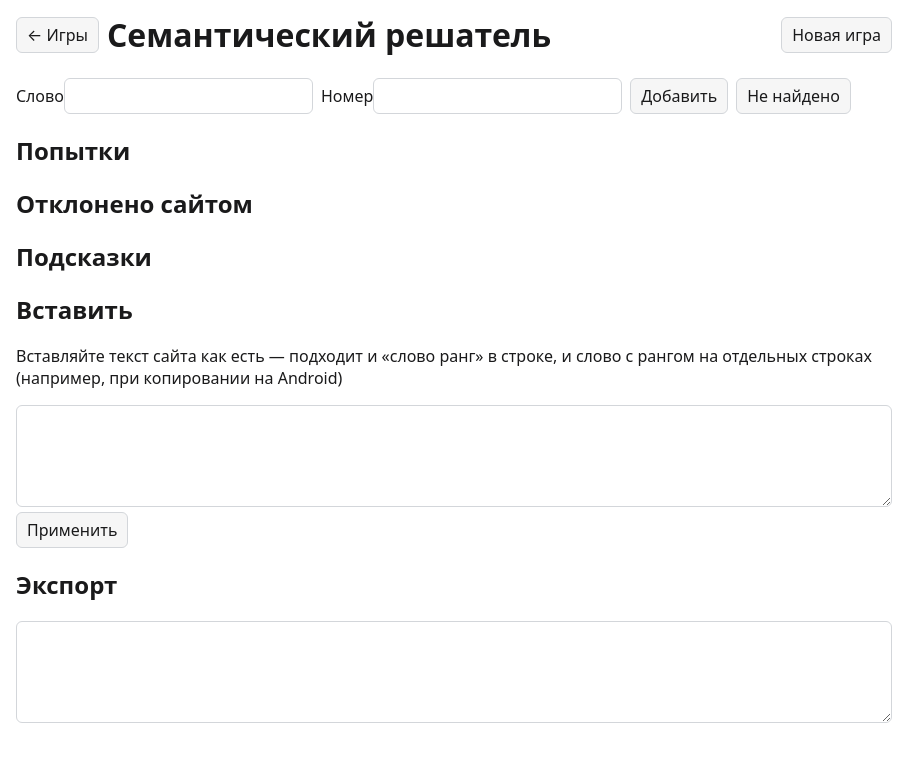
Scenario: SemanticScreen › cancelling the confirmation keeps the game
The width and height of the screenshot is (909, 763).
Type "снег" into the field labelled "Слово" at coordinates (188, 96), box [64, 78, 313, 114]
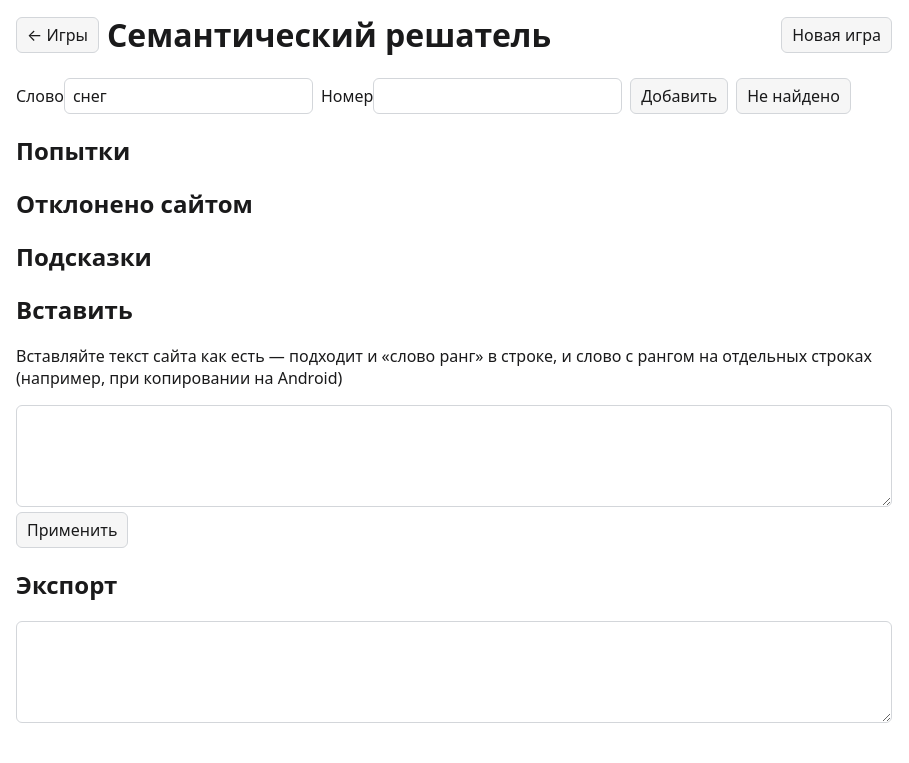
Type "206" into the field labelled "Номер" at coordinates (498, 96), box [373, 78, 622, 114]
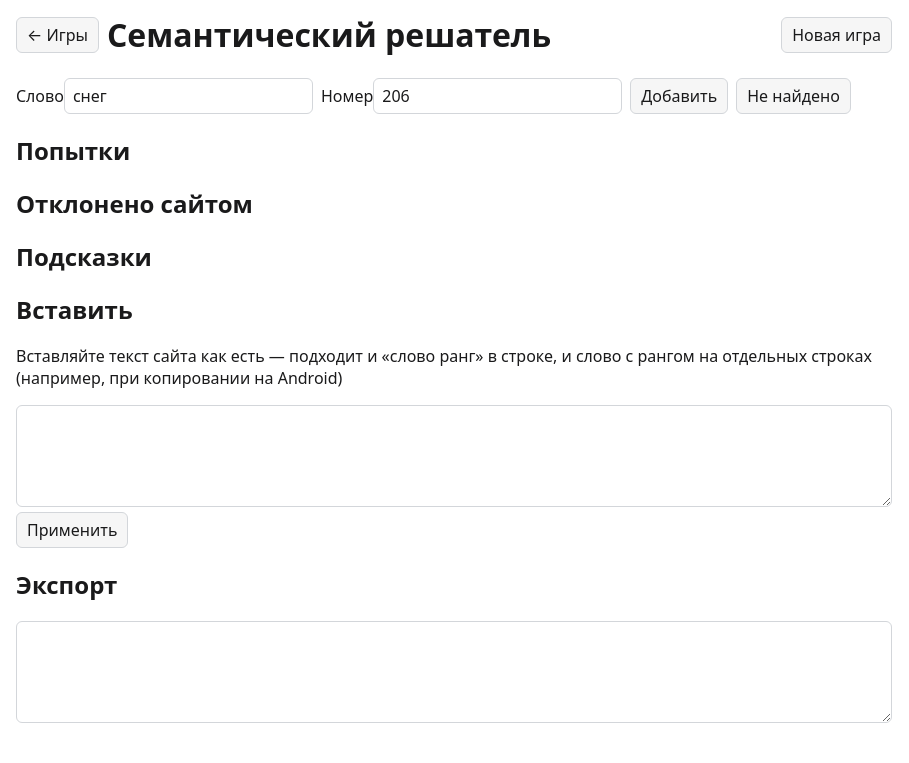
Click the button "Добавить" at coordinates (679, 96), box [630, 78, 728, 114]
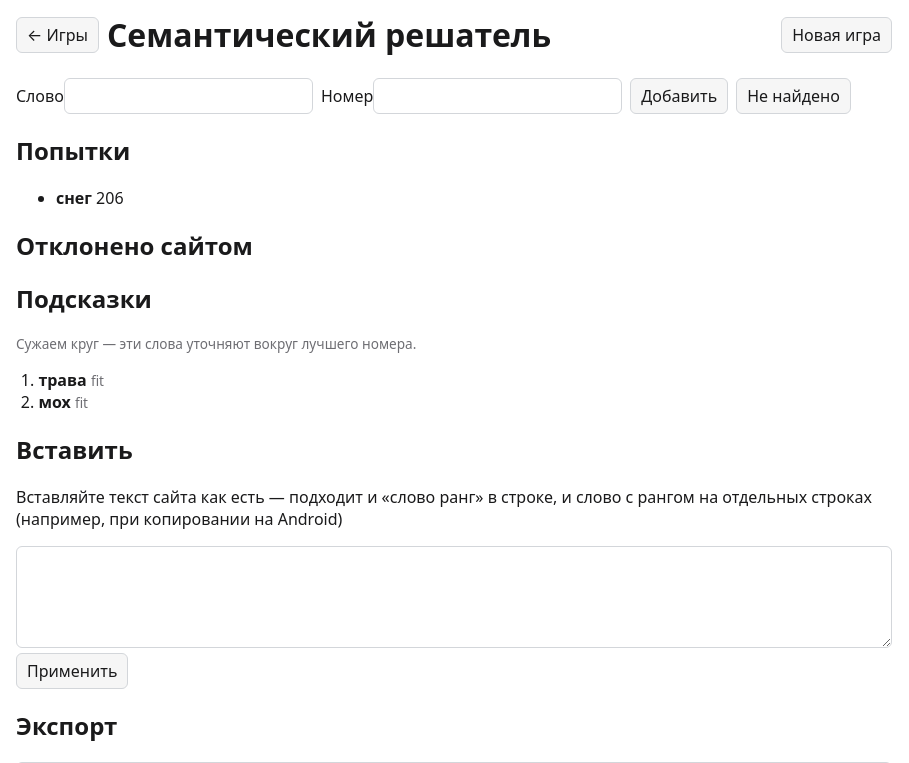
Result: the number of list items with test id "guess-row" is 1 at [56, 187, 124, 209]
Click the button with test id "semantic-new" at coordinates (837, 35), box [781, 17, 892, 53]
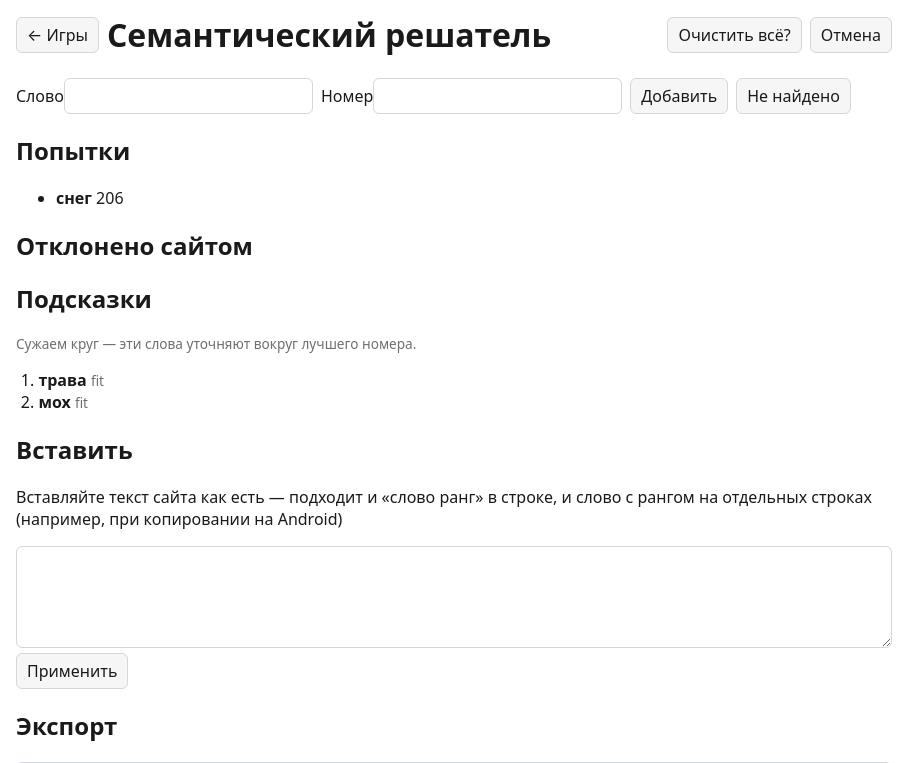
Click the button with test id "semantic-new-cancel" at coordinates (851, 35), box [810, 17, 892, 53]
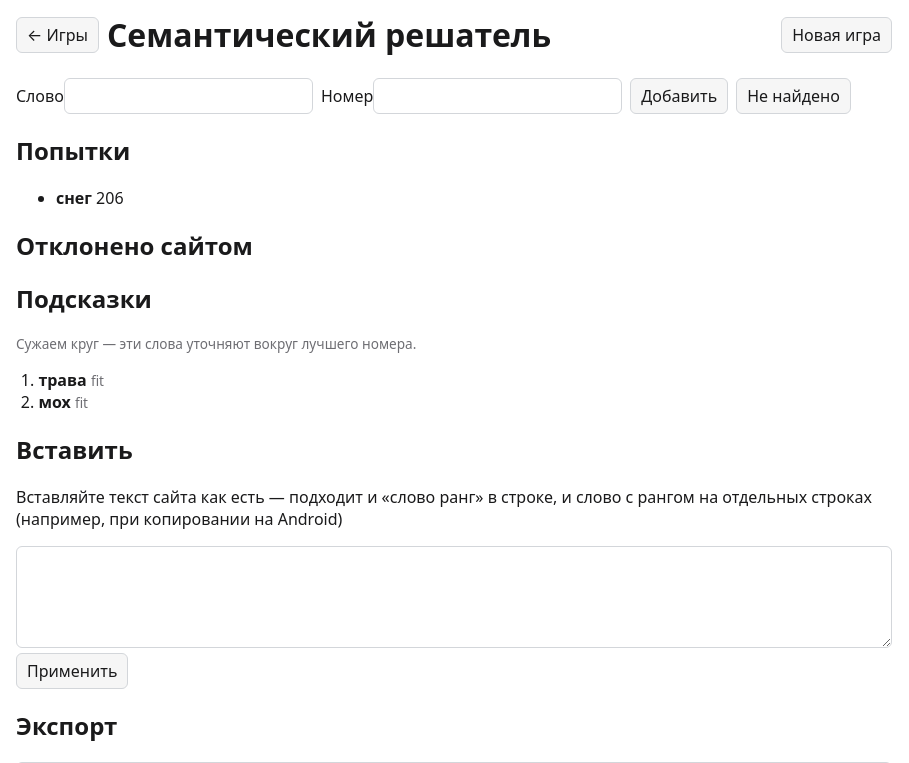
Result: the number of list items with test id "guess-row" is 1 at [56, 187, 124, 209]
Result: the button with test id "semantic-new-cancel" is gone
